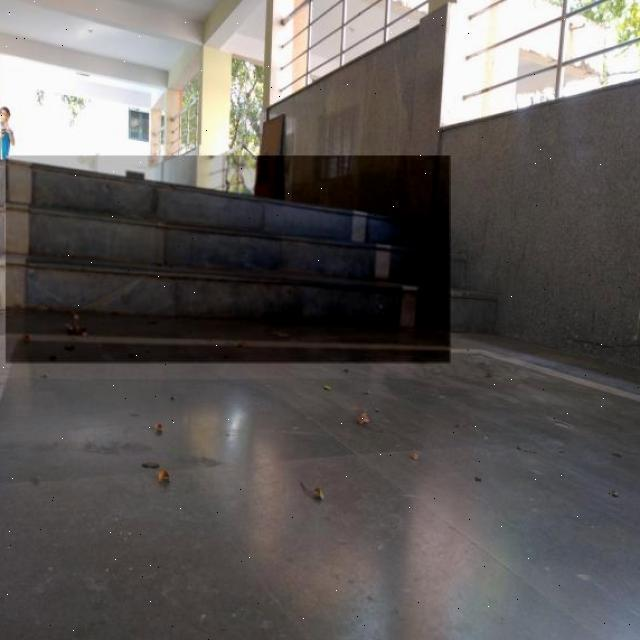stair: (7, 157, 452, 365)
